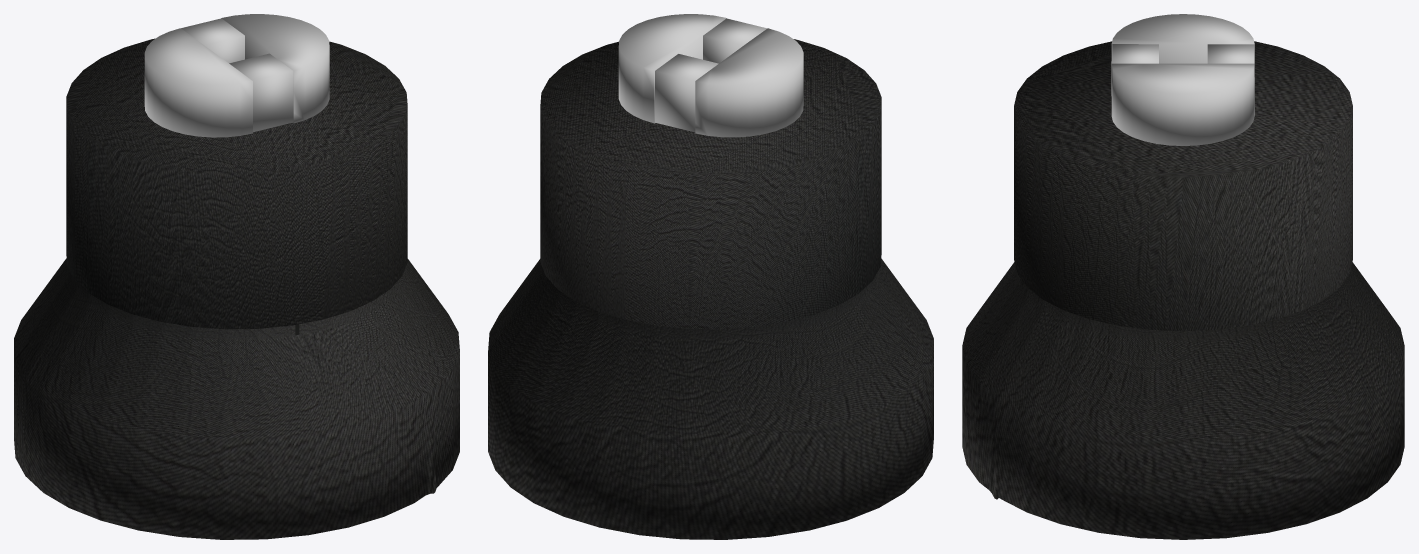
File: MED_BASE.dae
3 views of the same model, side by side, from view 1: azimuth 30°, elevation 25°; view 2: azimuth 150°, elevation 25°; view 3: azimuth 270°, elevation 25° (orthographic).
Visible parts, largest first — view 1: Cylinder, Cylinder_001, Cylinder_002, Cylinder_003, Cube, Cube_001; view 2: Cylinder, Cylinder_001, Cylinder_002, Cylinder_003, Cube_001, Cube; view 3: Cylinder, Cylinder_001, Cylinder_003, Cylinder_002, Cube_001, Cube.
Boxes of the visible parts, left/top/right/bottom form: Cylinder: left=14, top=258, right=459, bottom=539; Cylinder_001: left=66, top=38, right=407, bottom=329; Cylinder_002: left=144, top=28, right=252, bottom=137; Cylinder_003: left=221, top=14, right=329, bottom=123; Cube: left=229, top=53, right=293, bottom=132; Cube_001: left=181, top=18, right=244, bottom=63; Cylinder: left=488, top=258, right=933, bottom=539; Cylinder_001: left=540, top=39, right=881, bottom=329; Cylinder_002: left=695, top=28, right=803, bottom=137; Cylinder_003: left=618, top=14, right=726, bottom=123; Cube_001: left=655, top=54, right=718, bottom=132; Cube: left=703, top=18, right=767, bottom=63; Cylinder: left=962, top=262, right=1404, bottom=539; Cylinder_001: left=1014, top=41, right=1352, bottom=331; Cylinder_003: left=1111, top=63, right=1254, bottom=145; Cylinder_002: left=1111, top=14, right=1254, bottom=95; Cube_001: left=1207, top=44, right=1254, bottom=63; Cube: left=1112, top=44, right=1158, bottom=63.
Size of the model in its own units: 2 by 2 by 1.97.
